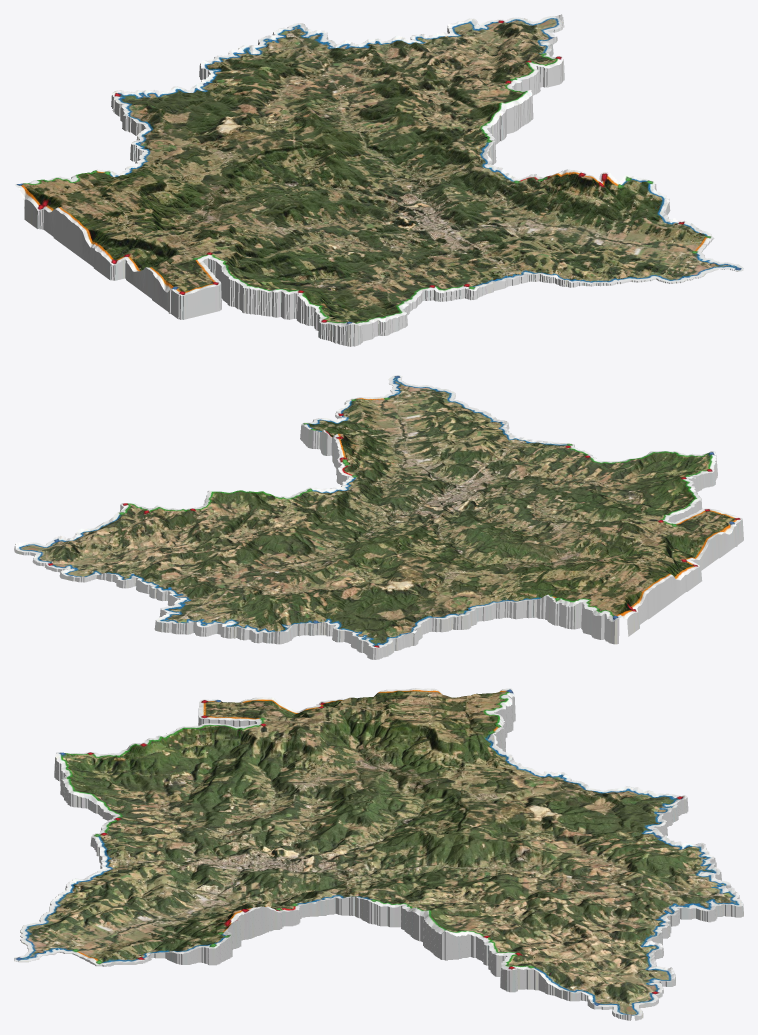
3 views of the same model, one above another, from view 1: azimuth 30°, elevation 25°; view 2: azimuth 150°, elevation 25°; view 3: azimuth 270°, elevation 25° (orthographic). The views are drawn at different scales.
Size of the model in its own units: 1 by 0.055 by 1.01.
1 material, 1 textured.
